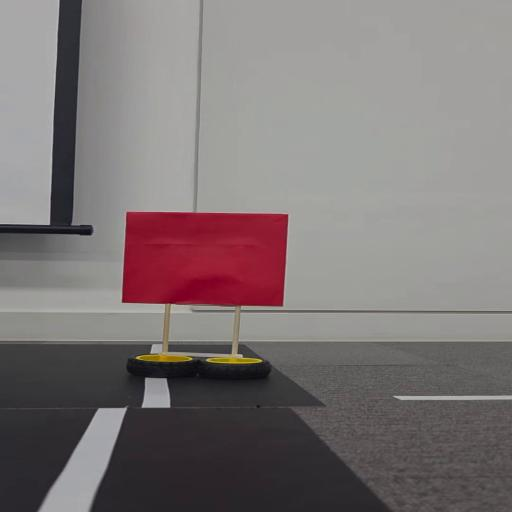Sign_A: (111, 203, 305, 382)
